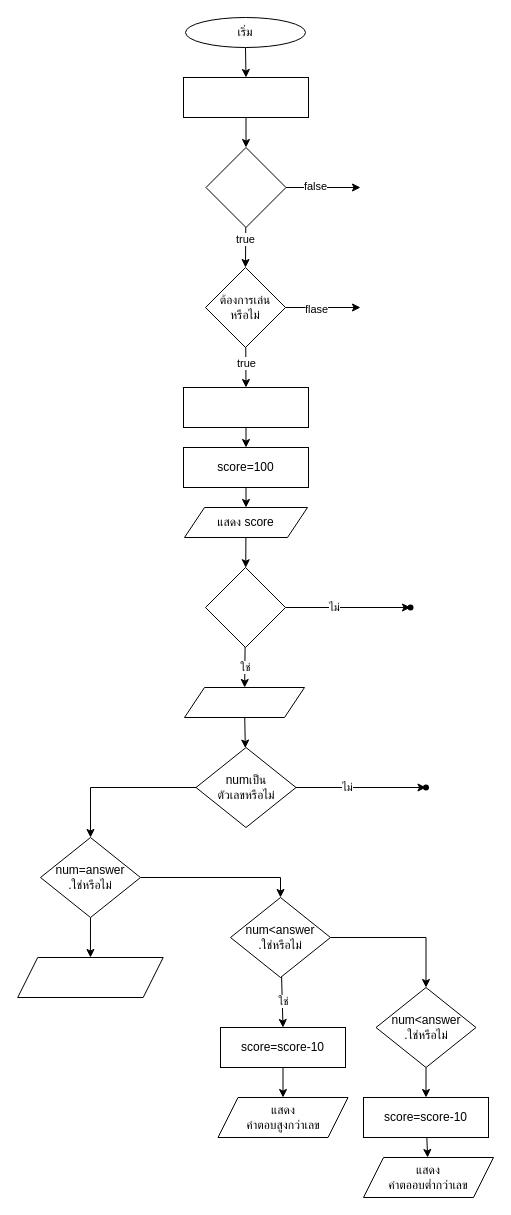
Image size: 511x1215. Some labels were removed from this diagram. The shapes that lost their labels are listed below. From the top down, each one's box as (x1, y1, x2, y2) in pixels, then its label:
(182, 76, 308, 118): num=0 condition=true
(205, 146, 286, 228): condition
(182, 386, 308, 428): สุ่มตัวเลข1-100=answer
(204, 566, 286, 648): score มากกว่า0
(184, 686, 304, 718): num= รับตัวเลข
(17, 956, 163, 998): แสดงscore และคำตอบ
